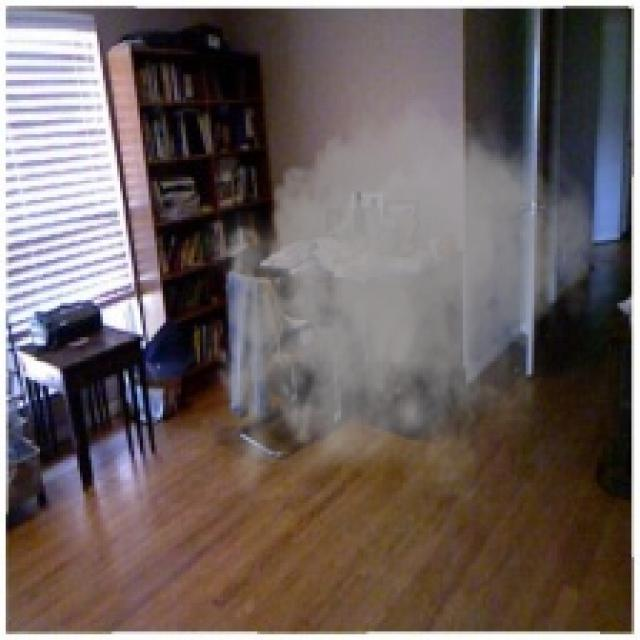smoke: (197, 86, 609, 508)
